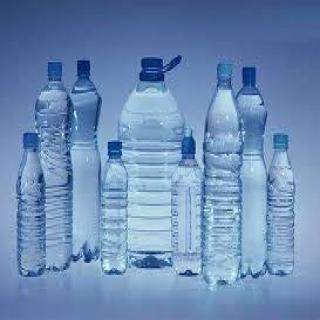Plastic-bottle: (120, 53, 189, 271), (202, 60, 244, 292), (35, 60, 75, 276), (237, 61, 271, 283), (71, 60, 104, 266), (171, 124, 207, 279), (267, 124, 299, 279), (16, 133, 48, 280), (103, 138, 131, 278)
